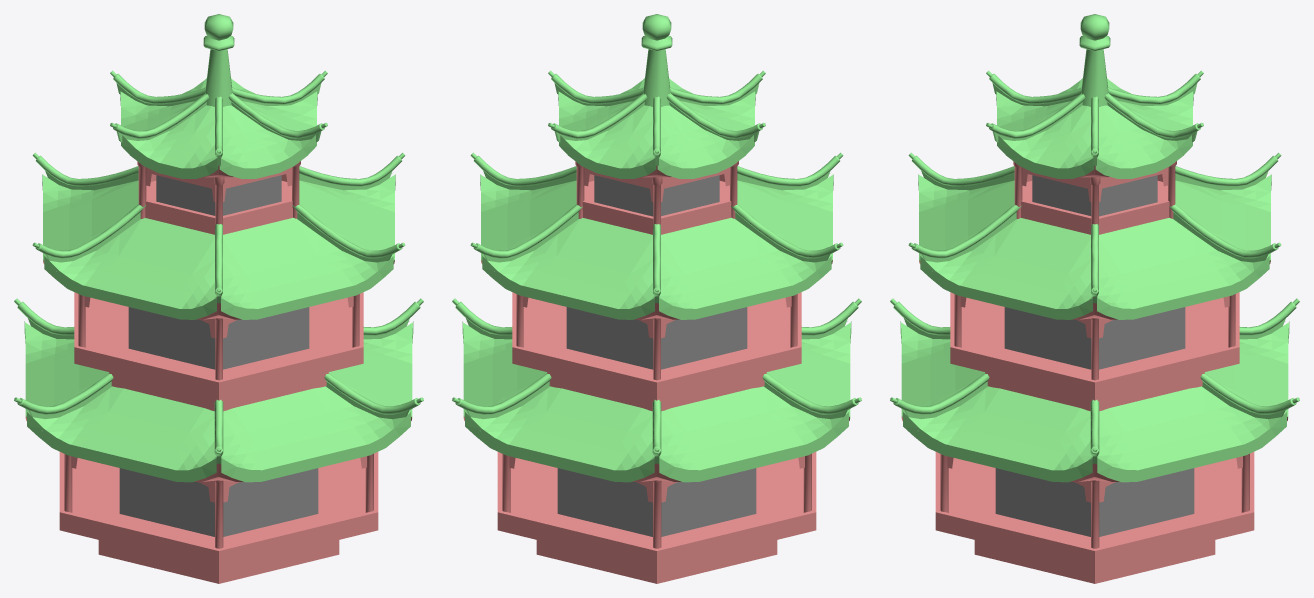
Rendered from CHN_OOB_Building08_CMB.gltf.
The picture shows the model from 3 angles, left to right: view 1: azimuth 30°, elevation 25°; view 2: azimuth 150°, elevation 25°; view 3: azimuth 270°, elevation 25°; orthographic projection.
Parts seen in each view (by area): view 1: CHN_OOB_Building08_CMB; view 2: CHN_OOB_Building08_CMB; view 3: CHN_OOB_Building08_CMB.
Boxes of the visible parts, x1,y1,x2,y2 form: CHN_OOB_Building08_CMB: [14, 14, 423, 583]; CHN_OOB_Building08_CMB: [452, 14, 861, 583]; CHN_OOB_Building08_CMB: [890, 14, 1299, 583].
Bounding box in the file's own units: 46.63 × 55.54 × 40.49.
